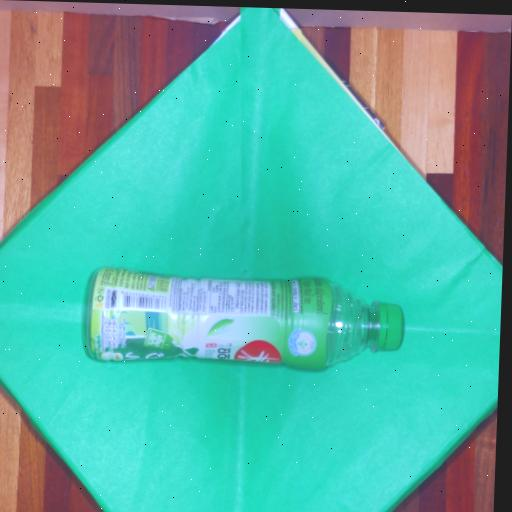bottle: (62, 254, 415, 390)
